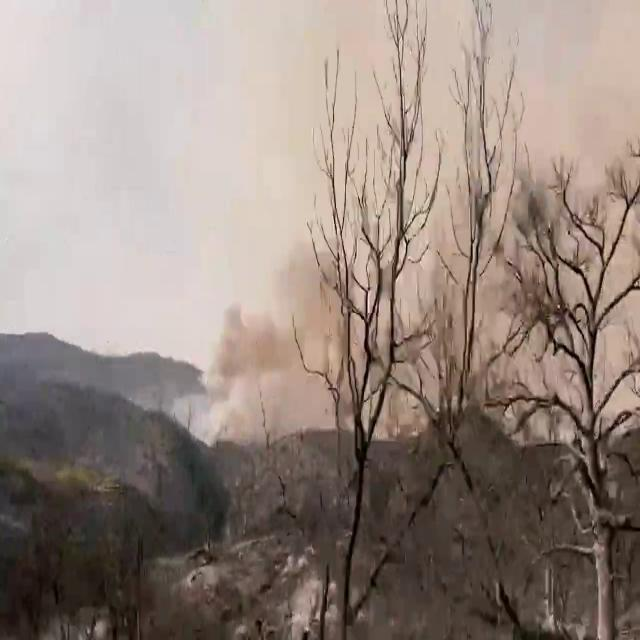Smoke: (183, 2, 639, 456)
